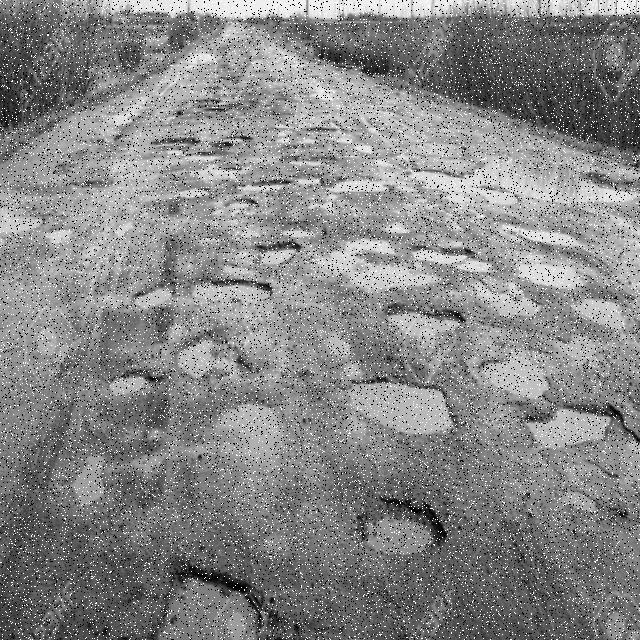pothole: (161, 583, 256, 640), (351, 386, 452, 435), (533, 411, 608, 447), (220, 407, 278, 447), (374, 526, 430, 554), (422, 174, 489, 195), (194, 285, 271, 303), (390, 314, 457, 334), (179, 342, 213, 378), (265, 247, 297, 257)
